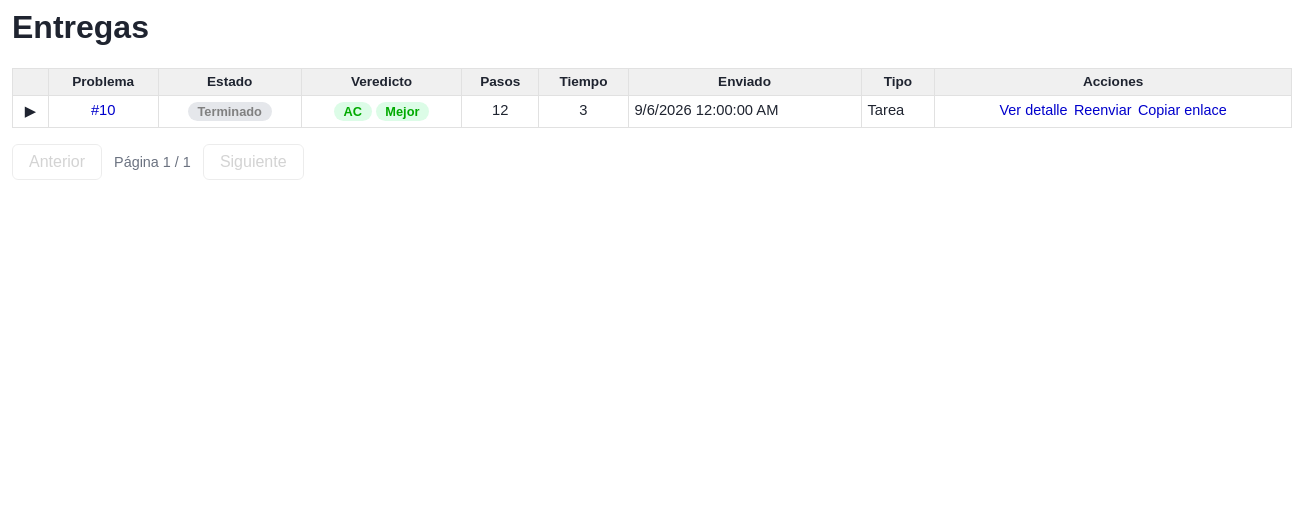
Codeforces-style submission rows › expands a row on click and shows source, verdict, and first sample case
The width and height of the screenshot is (1292, 513).
expect the link "#10" is shown: met, box top-left (91, 102), bottom-right (116, 118)
Click the text "#10". click: {"x": 652, "y": 112}
box: top-left (12, 95), bottom-right (1291, 128)
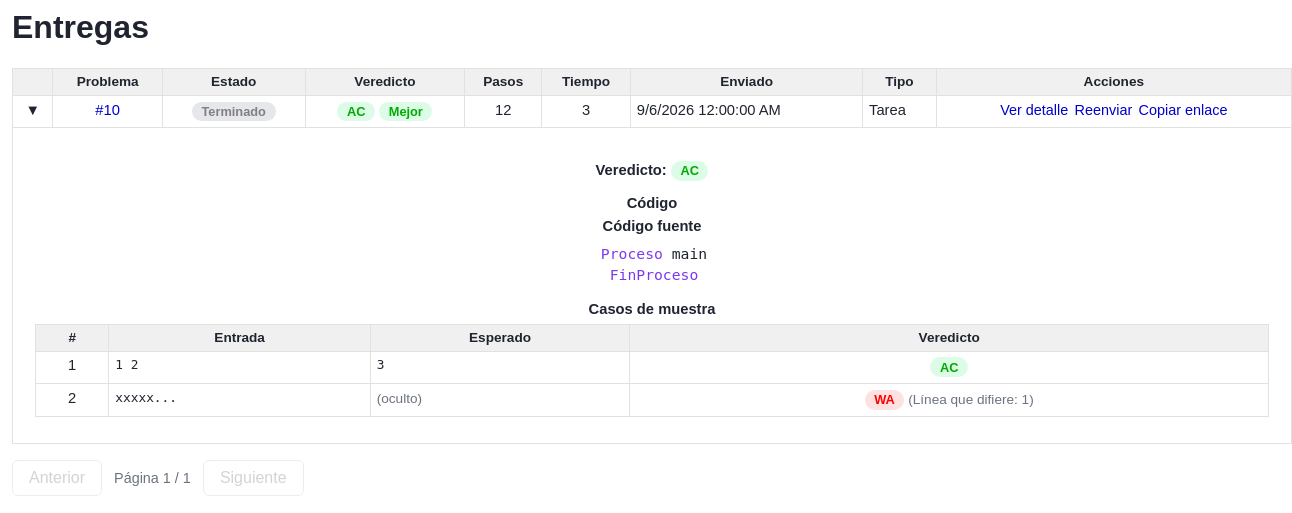
expect the heading "Casos de muestra" is shown: met, box top-left (589, 301), bottom-right (715, 317)
expect the text "1 2" is shown: met, box top-left (115, 358), bottom-right (138, 372)
expect the element with class "source-view" is shown: met, box top-left (601, 218), bottom-right (707, 283)
